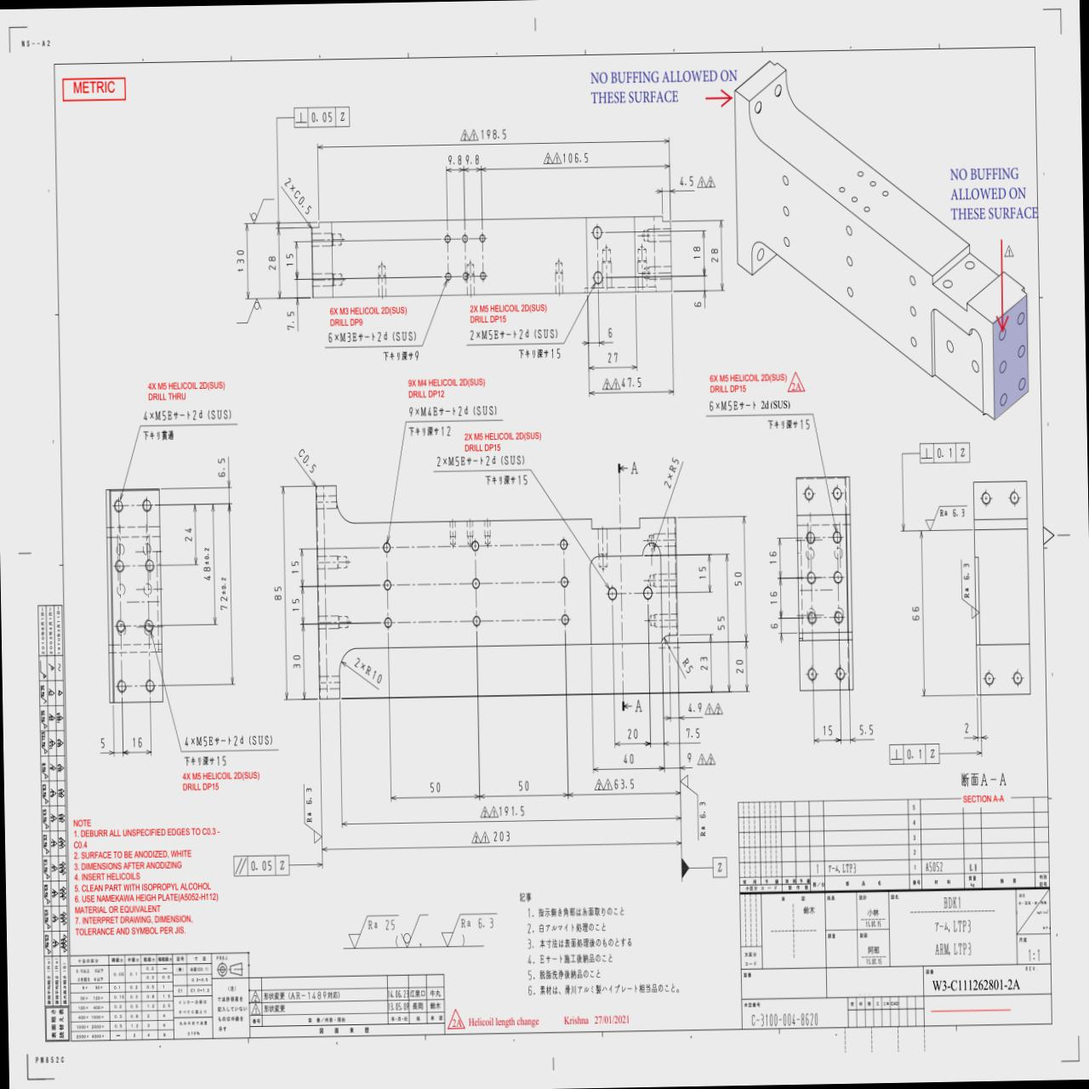basic_dimension: (499, 805, 525, 817), (563, 153, 588, 165), (481, 129, 507, 140), (621, 376, 642, 388), (311, 112, 332, 123), (251, 860, 272, 871), (615, 779, 634, 789), (493, 831, 510, 842), (907, 749, 923, 760), (680, 175, 694, 187), (859, 724, 873, 736), (465, 154, 480, 165), (937, 448, 952, 459), (218, 458, 226, 478), (448, 156, 462, 167), (688, 702, 702, 713), (287, 311, 295, 330), (692, 245, 701, 261), (710, 248, 719, 264), (607, 351, 618, 364), (686, 728, 700, 738), (823, 725, 833, 738), (184, 528, 193, 542), (627, 728, 638, 739), (268, 257, 276, 272), (274, 586, 282, 601), (717, 616, 725, 630), (133, 737, 143, 748), (430, 782, 440, 793), (624, 753, 634, 764), (701, 656, 708, 671), (734, 571, 741, 586), (285, 253, 293, 266), (293, 655, 301, 668), (736, 660, 744, 673), (699, 566, 707, 579), (519, 781, 529, 791), (912, 607, 919, 621), (291, 561, 299, 573), (292, 598, 299, 611), (770, 592, 777, 604), (770, 552, 777, 564), (770, 623, 778, 630), (965, 722, 969, 736), (608, 327, 613, 338), (694, 301, 701, 308), (101, 738, 105, 749), (687, 753, 691, 763)
datum_symbol: (682, 857, 728, 879)
dimension_chamfer_symbol: (292, 188, 313, 216), (297, 446, 317, 474)
dimension_chamfer_text: (297, 195, 313, 216), (302, 453, 317, 474)
dimension_metric_symbol: (155, 410, 167, 421), (196, 736, 208, 747), (420, 406, 432, 417), (339, 332, 351, 343), (449, 456, 460, 467), (481, 330, 493, 340), (721, 401, 733, 411)
dimension_metric_text: (203, 736, 208, 747), (488, 329, 493, 340), (162, 410, 166, 422), (347, 332, 351, 343), (728, 400, 732, 411), (456, 456, 460, 467), (428, 407, 432, 417)
dimension_radius_symbol: (364, 664, 384, 685), (667, 454, 681, 474), (681, 655, 694, 675)
dimension_radius_text: (371, 669, 383, 685), (671, 455, 680, 466), (685, 664, 694, 675)
dimension_thickness_symbol: (237, 247, 244, 274)
dimension_thickness_text: (237, 249, 244, 265)
explicit_tolerance_text: (203, 547, 211, 581), (220, 577, 228, 610)
gdt_frame_symbol: (233, 854, 291, 879), (294, 106, 350, 129), (918, 441, 971, 465), (889, 742, 941, 766)
gdt_parallelism_symbol: (234, 857, 247, 875), (921, 448, 933, 459)
gdt_perpendicularity_symbol: (891, 749, 902, 760), (295, 113, 307, 123)
revision_triangle_symbol: (1004, 245, 1015, 259), (697, 753, 707, 765), (594, 778, 604, 790), (471, 831, 481, 843), (480, 806, 490, 818), (706, 175, 716, 187), (469, 128, 478, 141), (460, 128, 469, 141), (553, 151, 562, 164), (543, 151, 552, 164), (697, 175, 706, 188), (602, 377, 611, 390), (489, 806, 499, 817), (714, 702, 723, 714), (705, 702, 714, 714), (707, 753, 716, 765), (604, 778, 613, 790), (481, 831, 490, 843), (612, 377, 621, 389)
surface_finish_symbol: (680, 774, 706, 841), (303, 784, 323, 844), (925, 505, 968, 532), (961, 559, 980, 619), (249, 199, 275, 225), (237, 298, 262, 324)
surface_finish_text: (699, 802, 706, 819), (306, 788, 312, 805), (953, 509, 964, 517), (964, 563, 969, 580)
